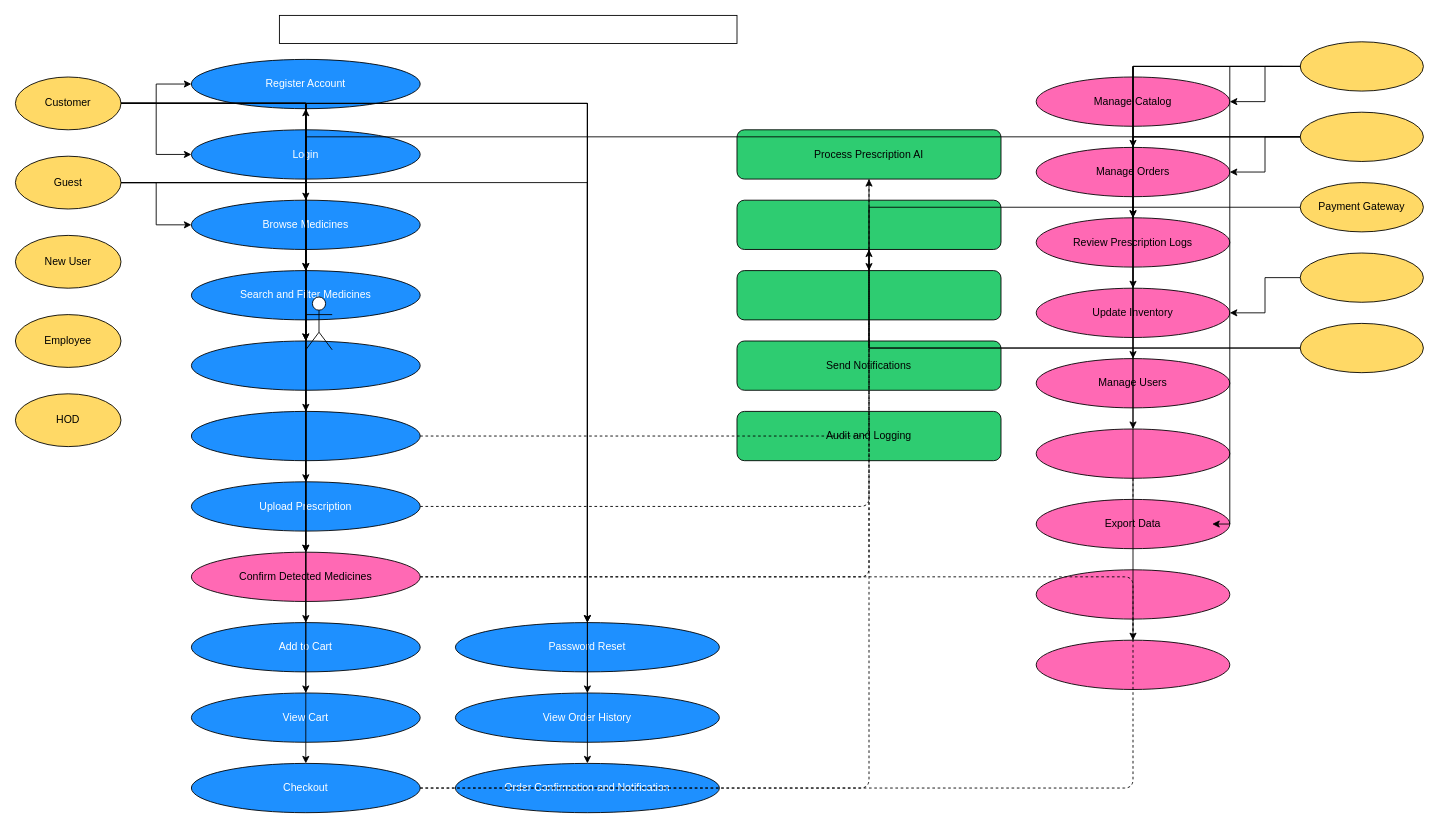
Some shapes in this 1439 by 828 pixel diagram are drawn without their labels. The shapes that lost their labels are listed below. From the top down, each one's box as (x1, y1, x2, y2) in pixels, then its label:
(279, 15, 737, 44): AI Powered E Commerce Medical Platform
(1299, 41, 1423, 91): Administrator
(1299, 111, 1423, 161): Pharmacist
(736, 199, 1001, 249): Suggest Cheaper Alternatives
(736, 270, 1001, 320): Payment Processing
(1299, 252, 1423, 302): Inventory System
(305, 296, 332, 350): Actor
(191, 340, 420, 390): Search Autocomplete
(1299, 323, 1423, 373): AI Engine
(191, 411, 420, 461): View Medicine Details
(1035, 428, 1230, 478): Generate Reports
(1035, 569, 1230, 619): Apply Discount Code
(1035, 639, 1230, 689): Manual Verification
